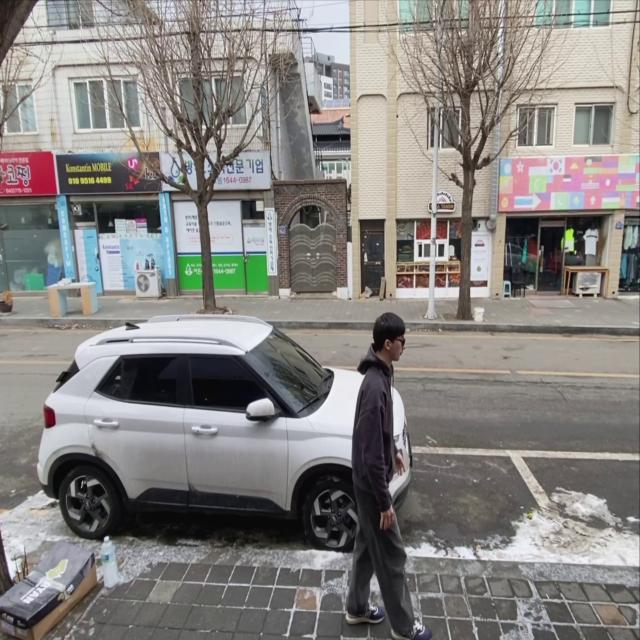bare_hand: (380, 503, 396, 534), (394, 452, 409, 481)
